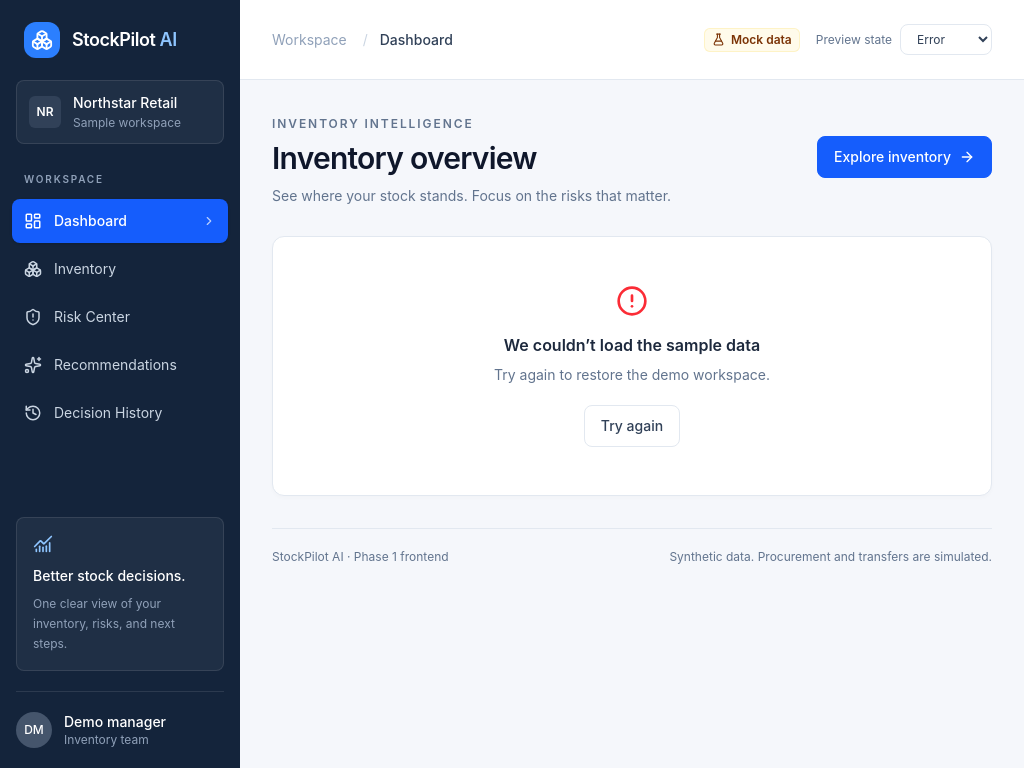
Phase 1 workspace › allows a failed mock load to recover through retry
The width and height of the screenshot is (1024, 768).
Expected: the message shows "We couldn’t load the sample data", [504,335,760,355]
Step 1. Click the button "Try again" → (632, 426), box [584,405,680,447]
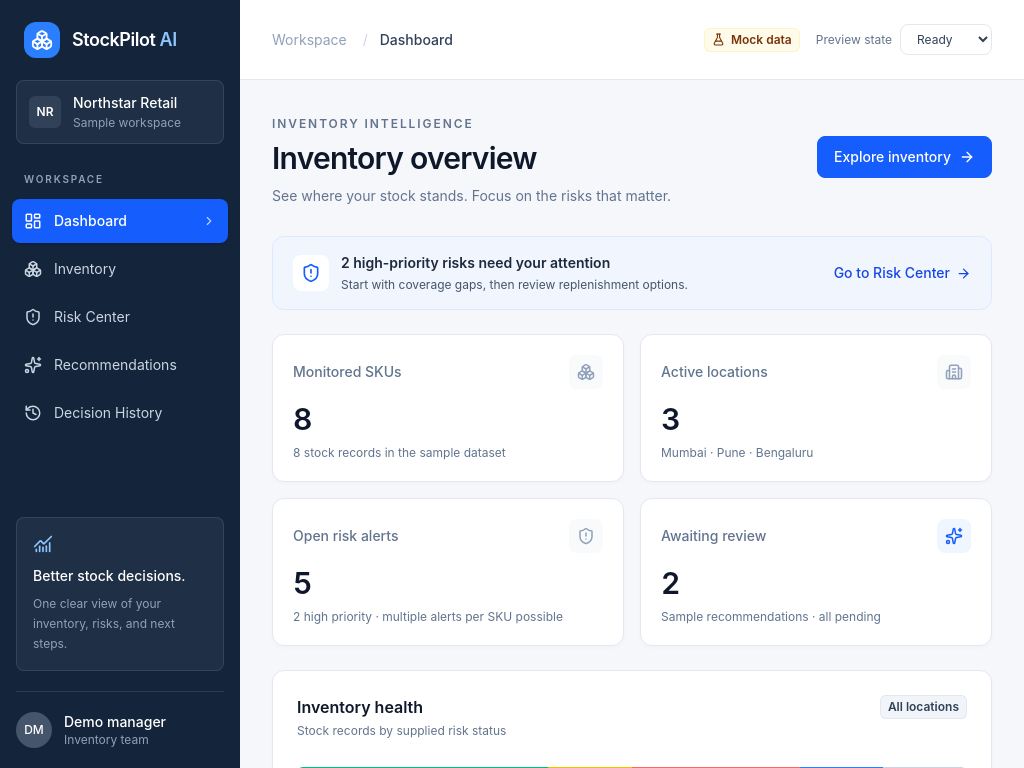
Expected: the heading "Inventory health" is shown, [297,697,423,717]
